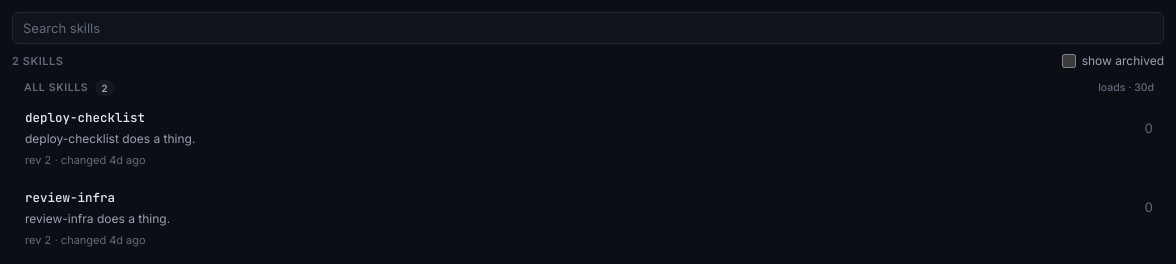
Test case: SkillList › drops an older search's Load more page once a newer search is under way
Expected: the text "deploy-checklist" is shown, [25,109,145,126]
In the search field labelled "Search skills": (588, 28) [12,12,1164,44], type "a"
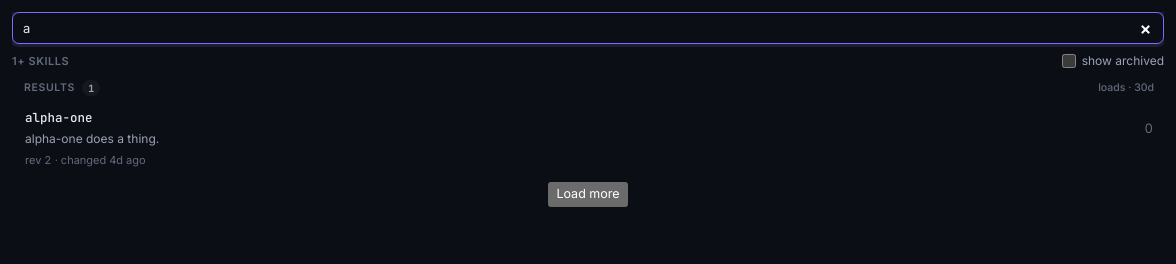
Expected: the text "alpha-one" is shown, [25,109,92,126]
In the search field named "Search skills": (588, 28) [12,12,1164,44], type "b"
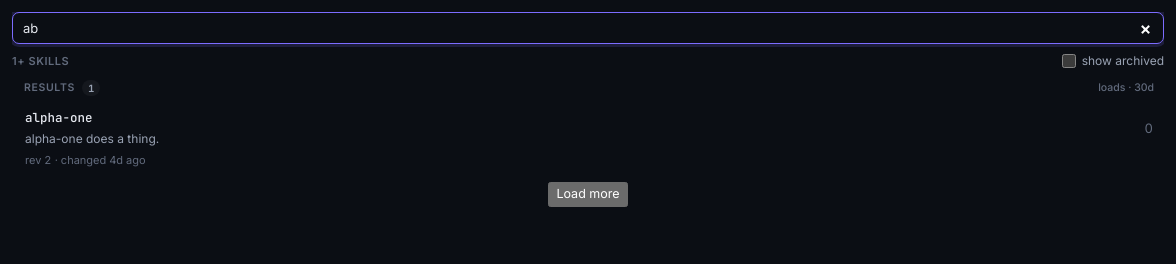
Click the button "Load more": (588, 194) [548,182,628,207]
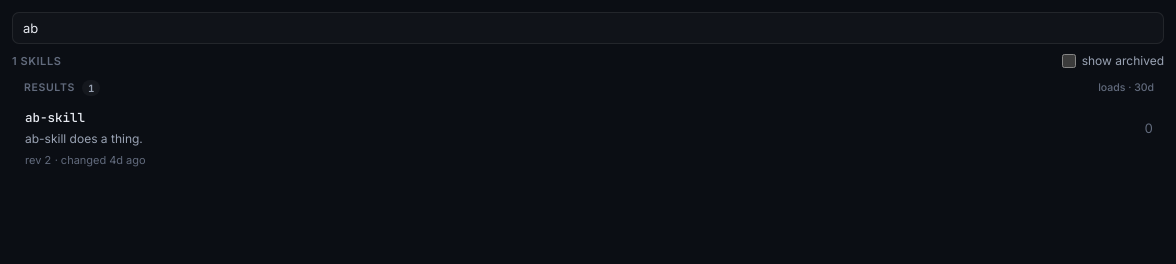
Expected: the text "ab-skill" is shown, [25,109,85,126]
Expected: the button "Load more" is gone
